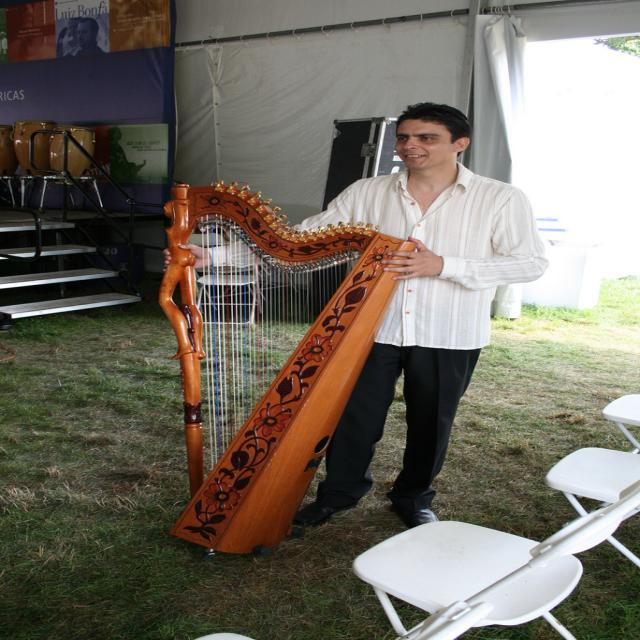harp: (144, 173, 426, 559)
